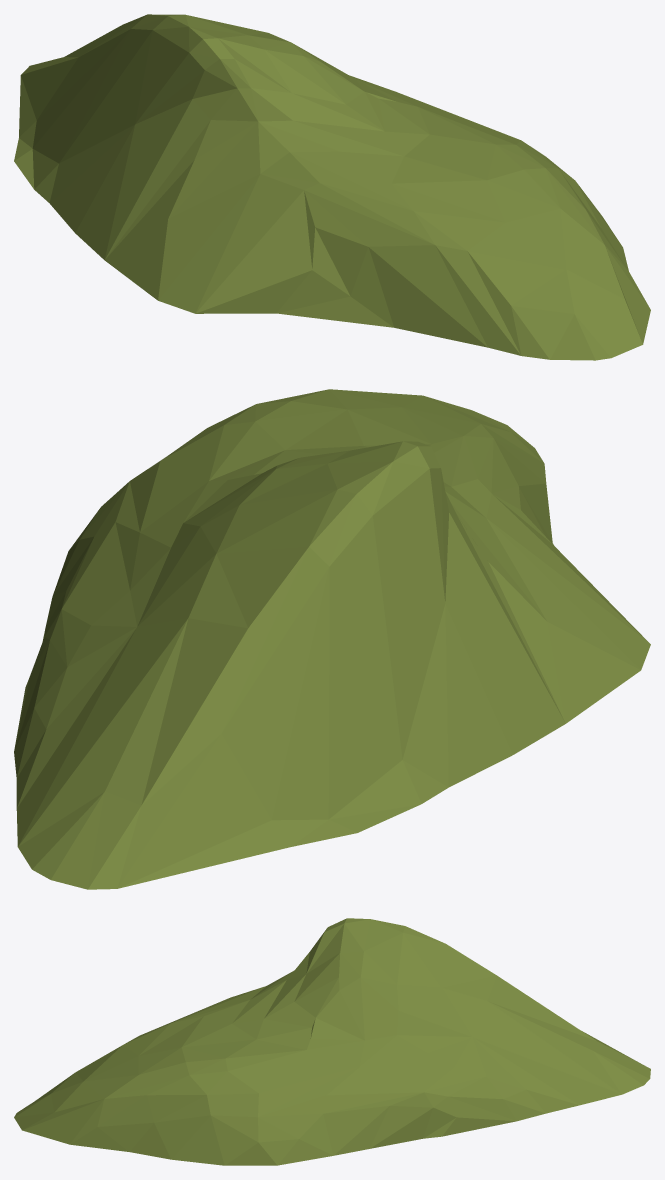
Rendered from Terrain_Mound-06.FBX.
The picture shows the model from 3 angles, top to bottom: view 1: azimuth 30°, elevation 25°; view 2: azimuth 150°, elevation 25°; view 3: azimuth 270°, elevation 25°; orthographic projection. The views are drawn at different scales.
Visible parts, largest first — view 1: Terrain_Mound-06; view 2: Terrain_Mound-06; view 3: Terrain_Mound-06.
Part boxes in pixels (x1,y1,x2,y2): Terrain_Mound-06: (14, 14, 650, 360); Terrain_Mound-06: (14, 389, 650, 889); Terrain_Mound-06: (14, 918, 650, 1165).
Bounding box in the file's own units: 1997 × 872 × 3644.
1 material, 1 textured.
